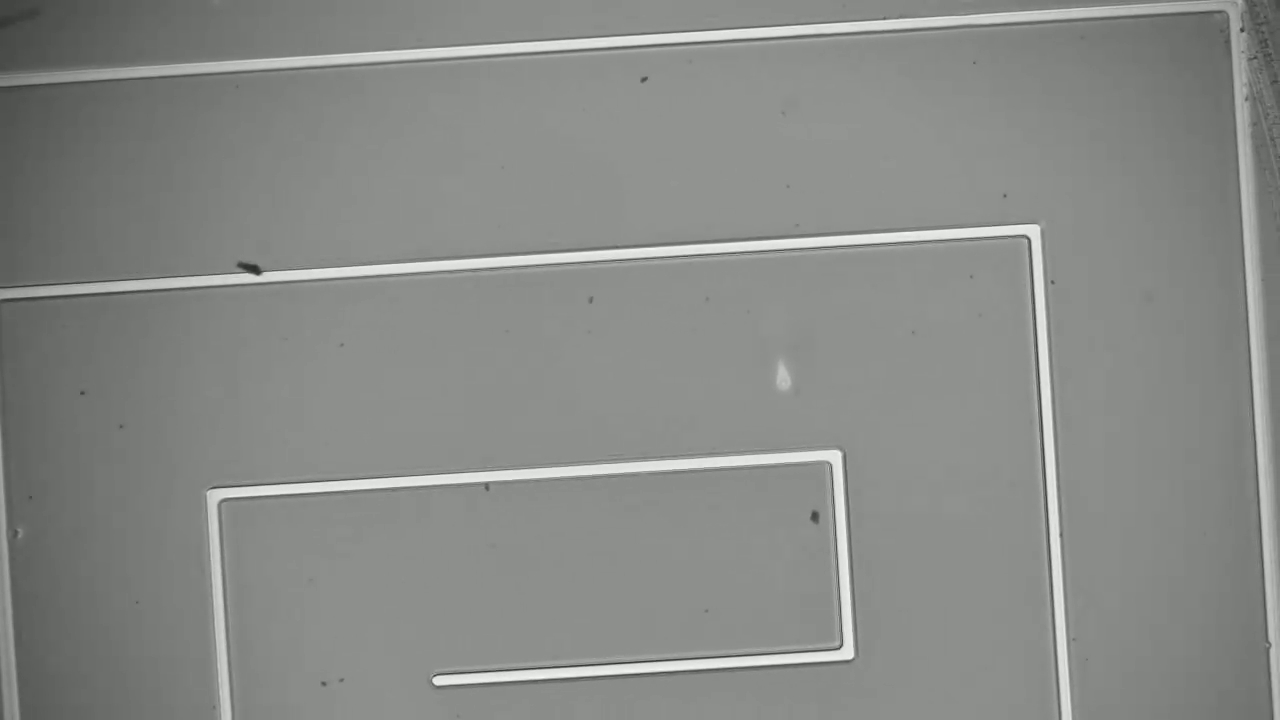stains_enbedded: (229, 255, 269, 288)
